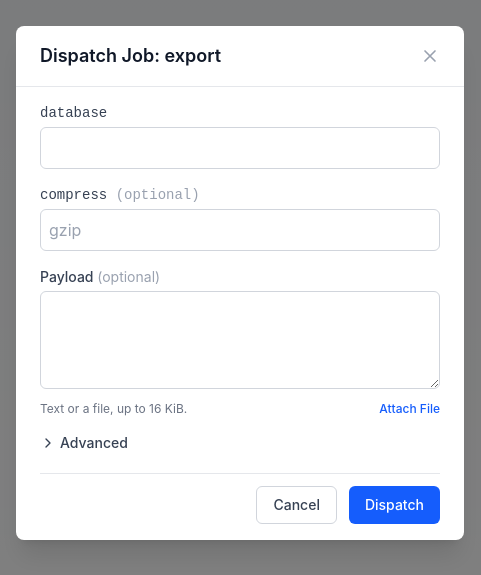
Test case: DispatchJobModal › shows no error before the first attempt and clears it once the key is filled
Check: the text "Required" is not shown
Click the button "Dispatch": coordinates (394, 505) [349,486,440,524]
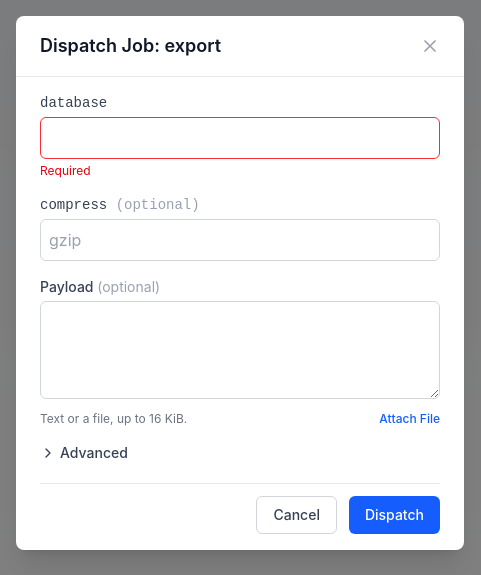
In the field labelled "database": coordinates (240, 138) [40,117,440,159], type "orders"
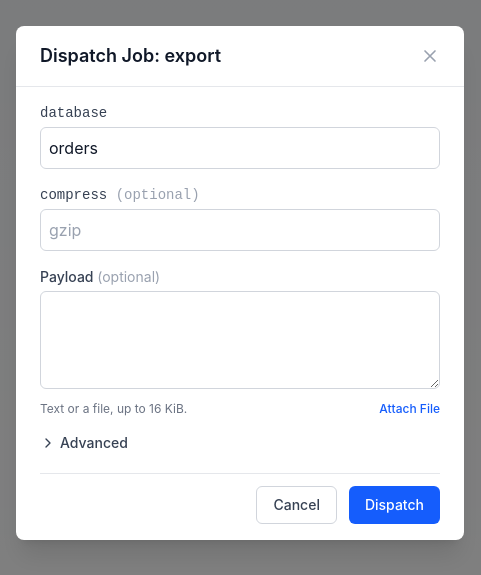
Check: the text "Required" is gone
